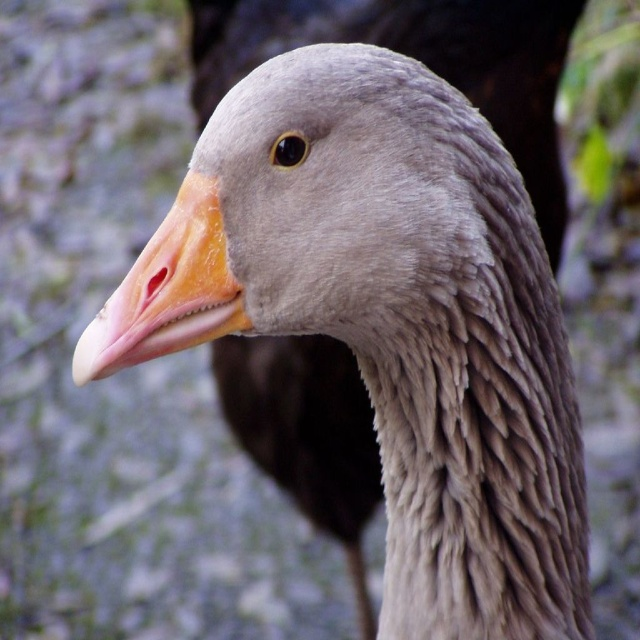Goose: (88, 35, 576, 625)
